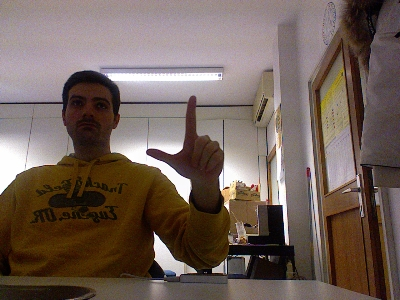枪: (144, 93, 224, 180)
